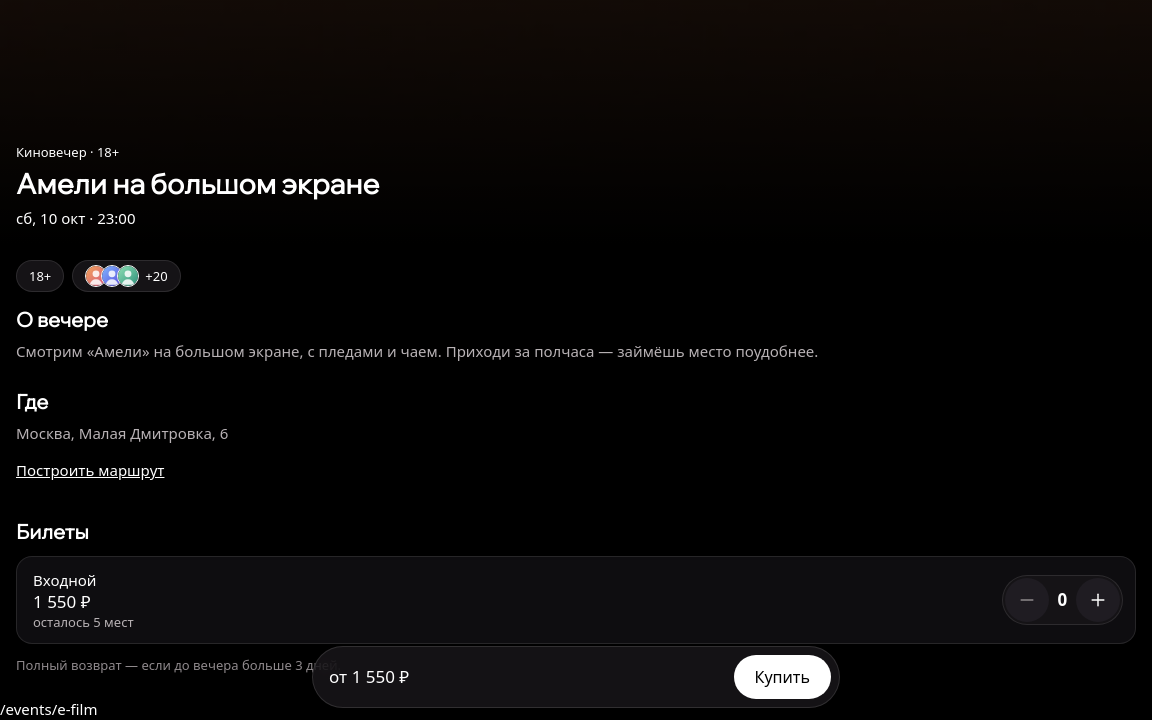
Test: EventScreen › sends the guest to the bot while buying in the app is closed
The width and height of the screenshot is (1152, 720).
(page scrolled)
Expected: the heading "Амели на большом экране" is shown, [16, 166, 379, 201]
Click the button named "Входной: 0 билетов. Добавить". click: [1098, 600]
box: [1076, 578, 1120, 622]
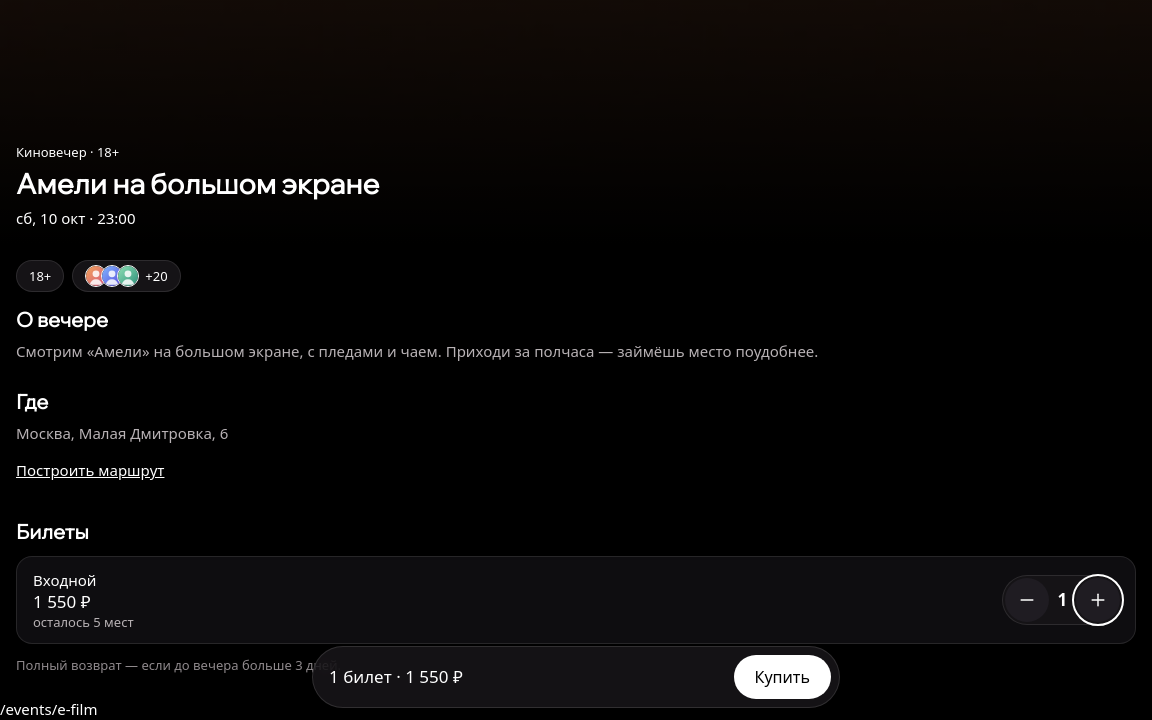
Click the button "Купить". click: [782, 677]
box: [734, 655, 831, 699]
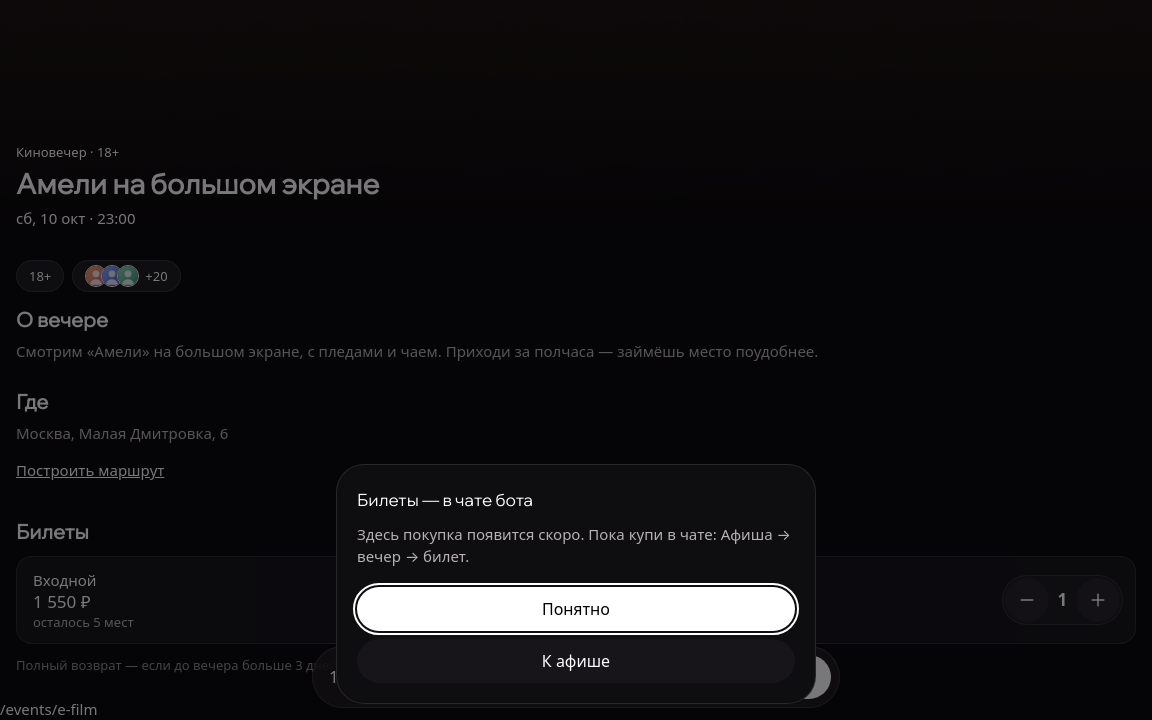
Expected: the dialog "Билеты — в чате бота" is shown, [336, 464, 816, 704]
Click the button "Понятно". click: [576, 609]
box: [357, 587, 795, 631]
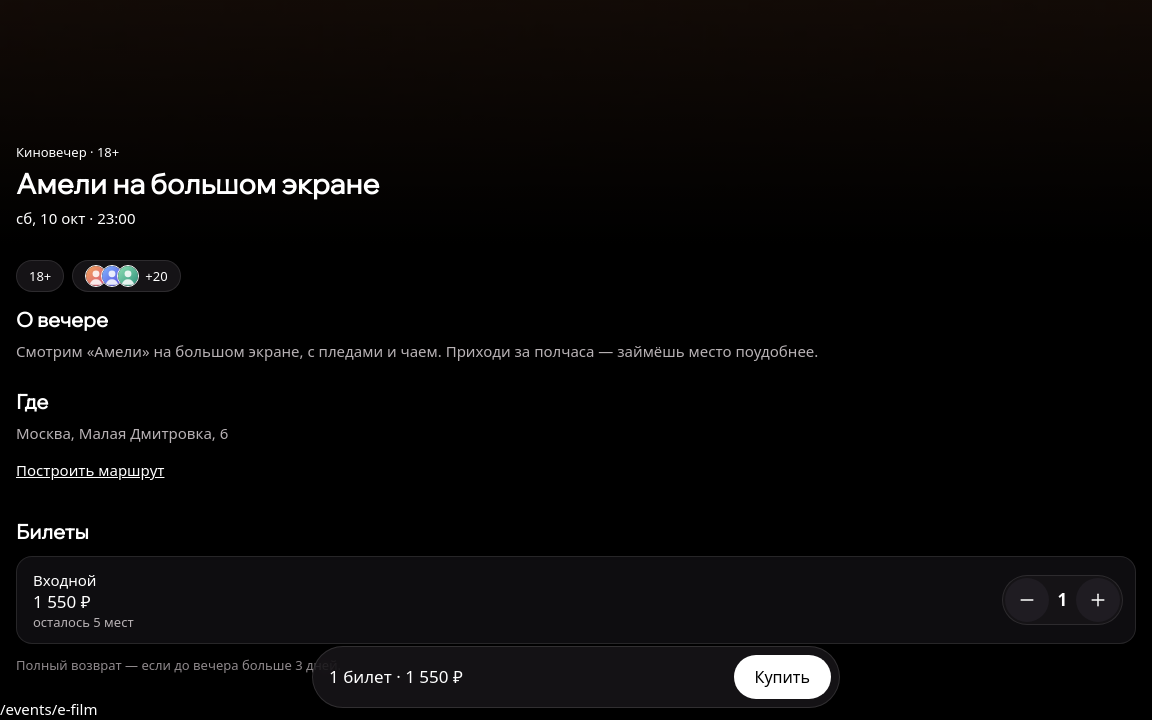
Expected: the dialog is gone
